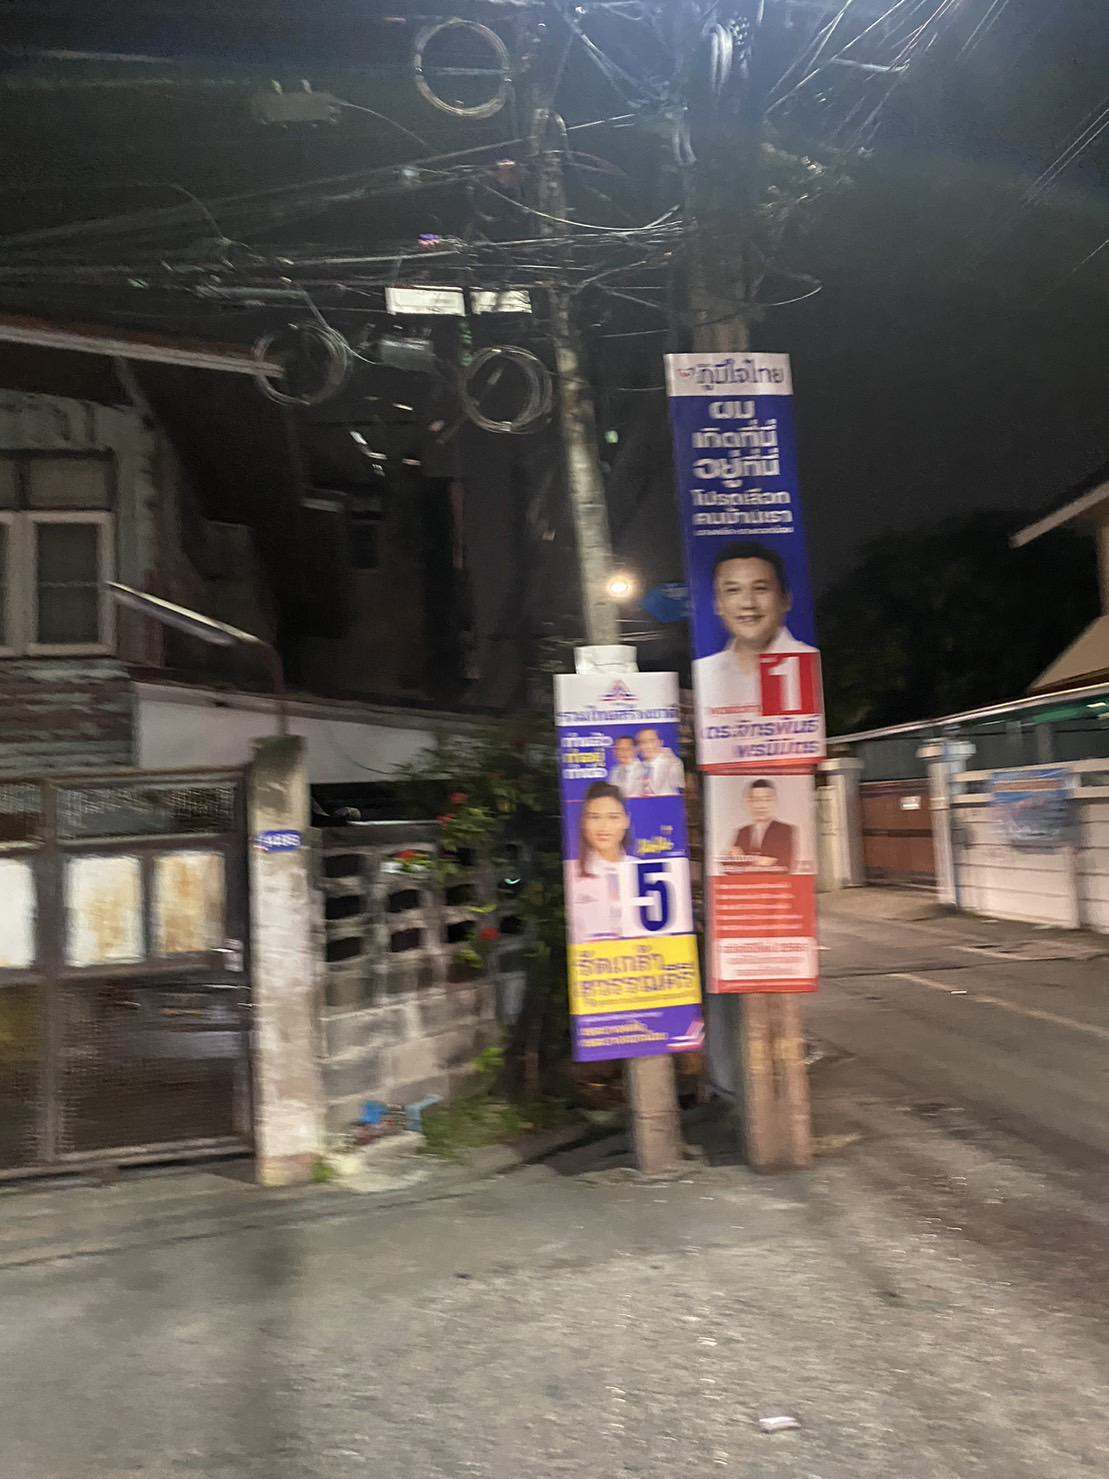Banner: (669, 351, 845, 746), (560, 675, 704, 1050)
